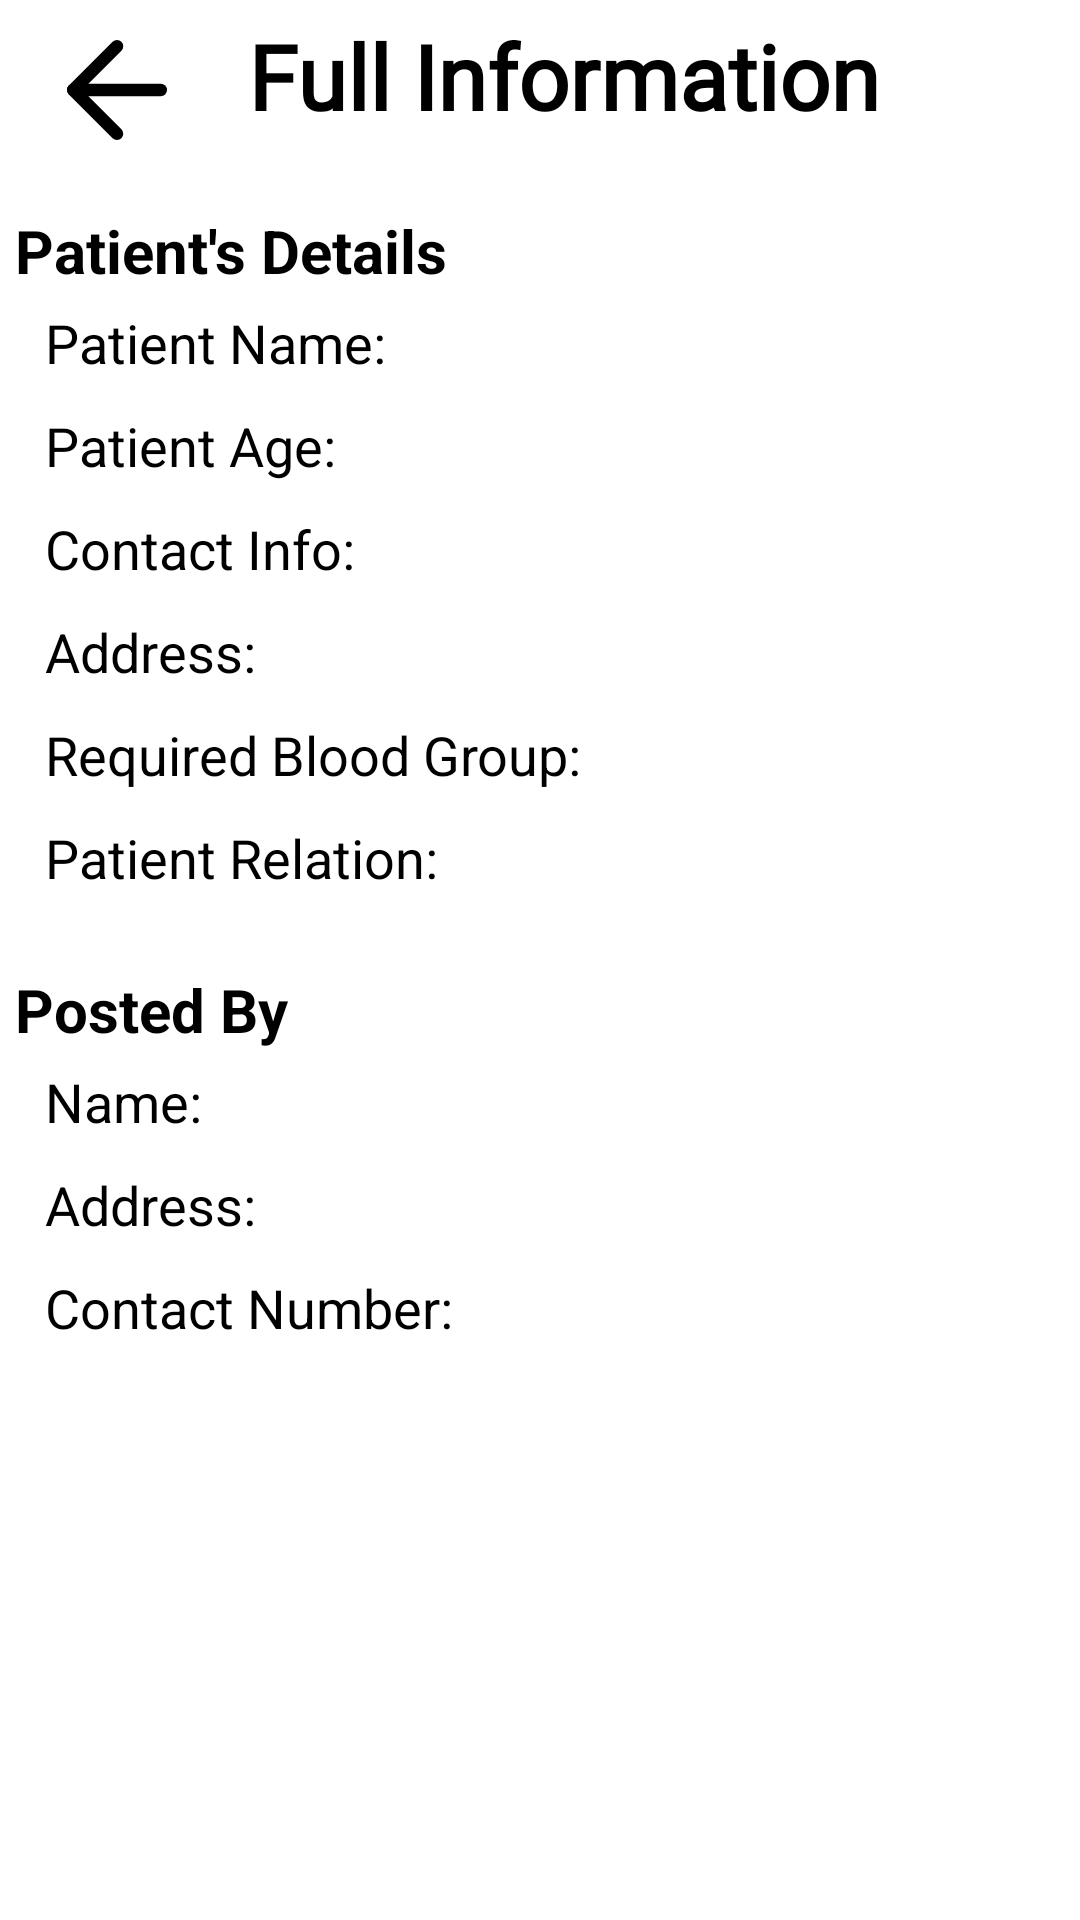

Screen size 1080×1920. Icon name, then its box in pixels as [left=x1, top=y1, right=x2, bottom=y2]:
arrow left: [left=67, top=40, right=167, bottom=140]
